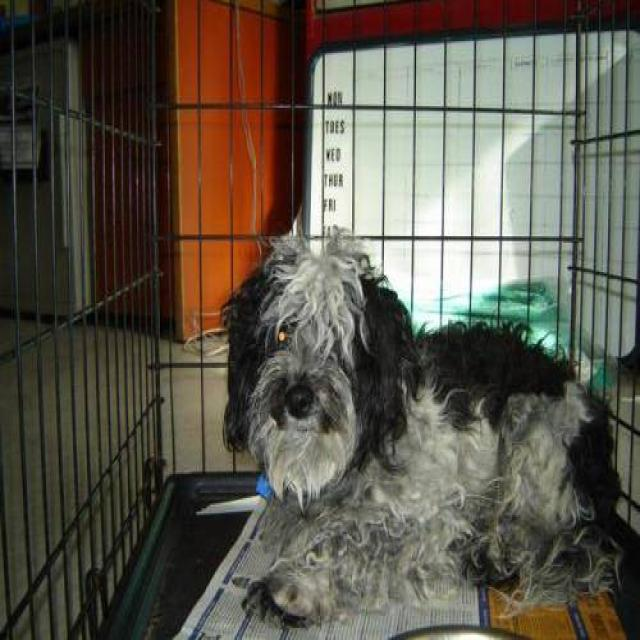dog: (219, 214, 630, 626)
